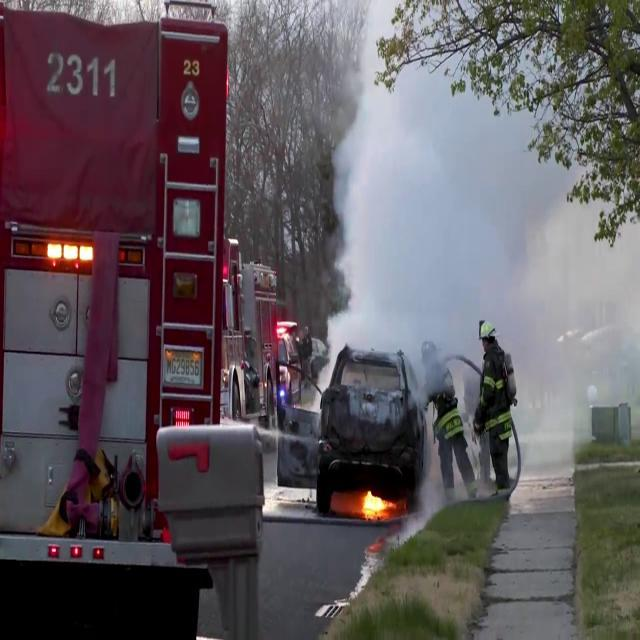Fire: (358, 483, 391, 521)
Smoke: (312, 40, 640, 402)
